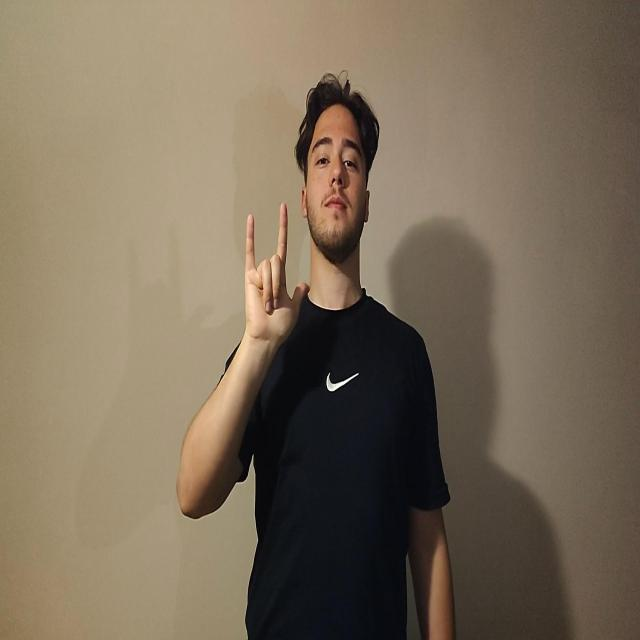iloveyou: (243, 201, 310, 349)
